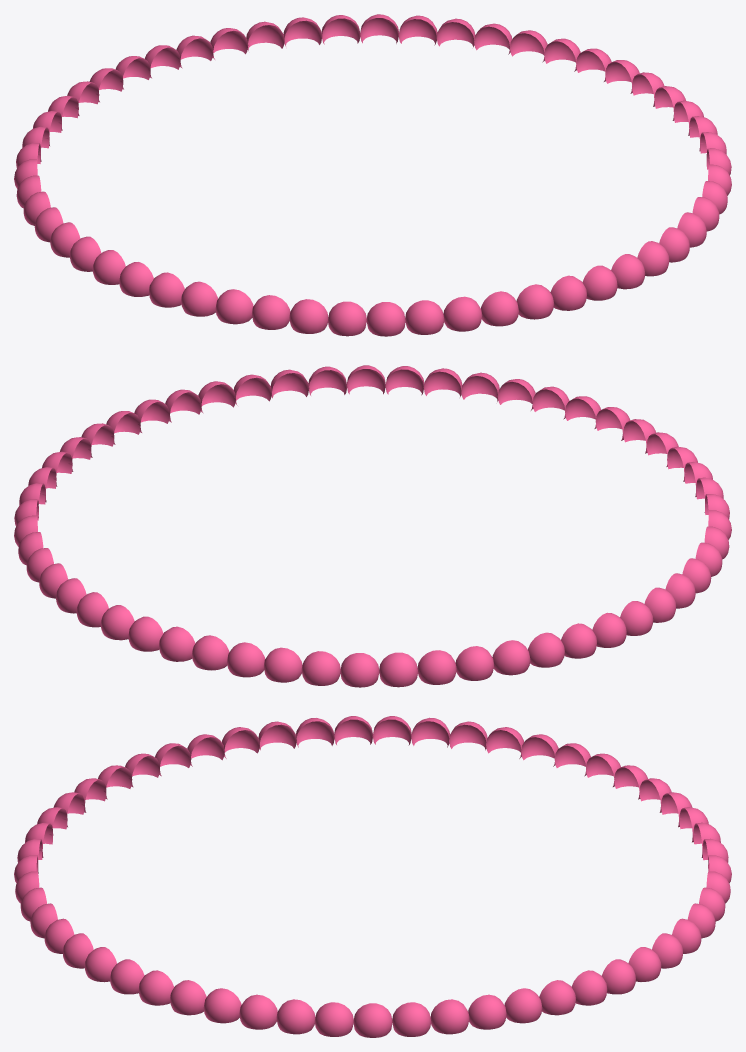
The model's file is Cake_Med_itemsSide_Pearls-B.FBX.
The picture shows the model from 3 angles, top to bottom: view 1: azimuth 30°, elevation 25°; view 2: azimuth 150°, elevation 25°; view 3: azimuth 270°, elevation 25°; orthographic projection.
Parts seen in each view (by area): view 1: Cake_Med_itemsSide_Pearls-B; view 2: Cake_Med_itemsSide_Pearls-B; view 3: Cake_Med_itemsSide_Pearls-B.
Boxes of the visible parts, bbox=[...] form: Cake_Med_itemsSide_Pearls-B: bbox=[14, 14, 731, 336]; Cake_Med_itemsSide_Pearls-B: bbox=[14, 365, 731, 687]; Cake_Med_itemsSide_Pearls-B: bbox=[14, 716, 731, 1037].
Bounding box in the file's own units: 7819 × 313 × 7822.
